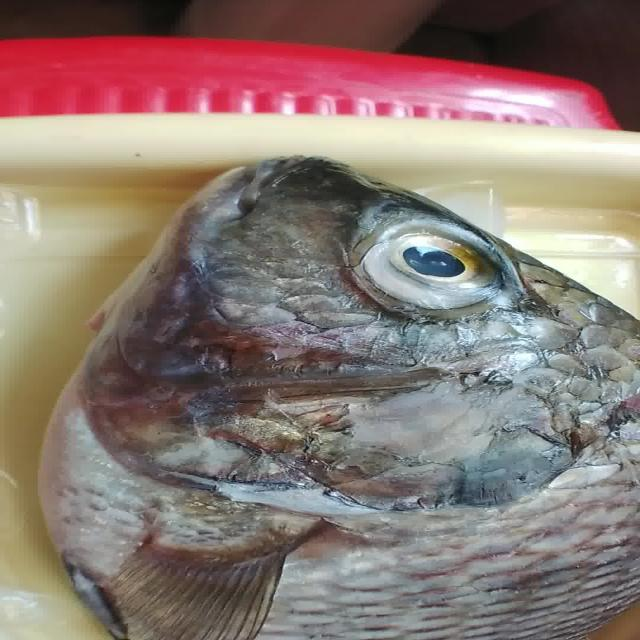Fresh: (283, 199, 545, 340)
